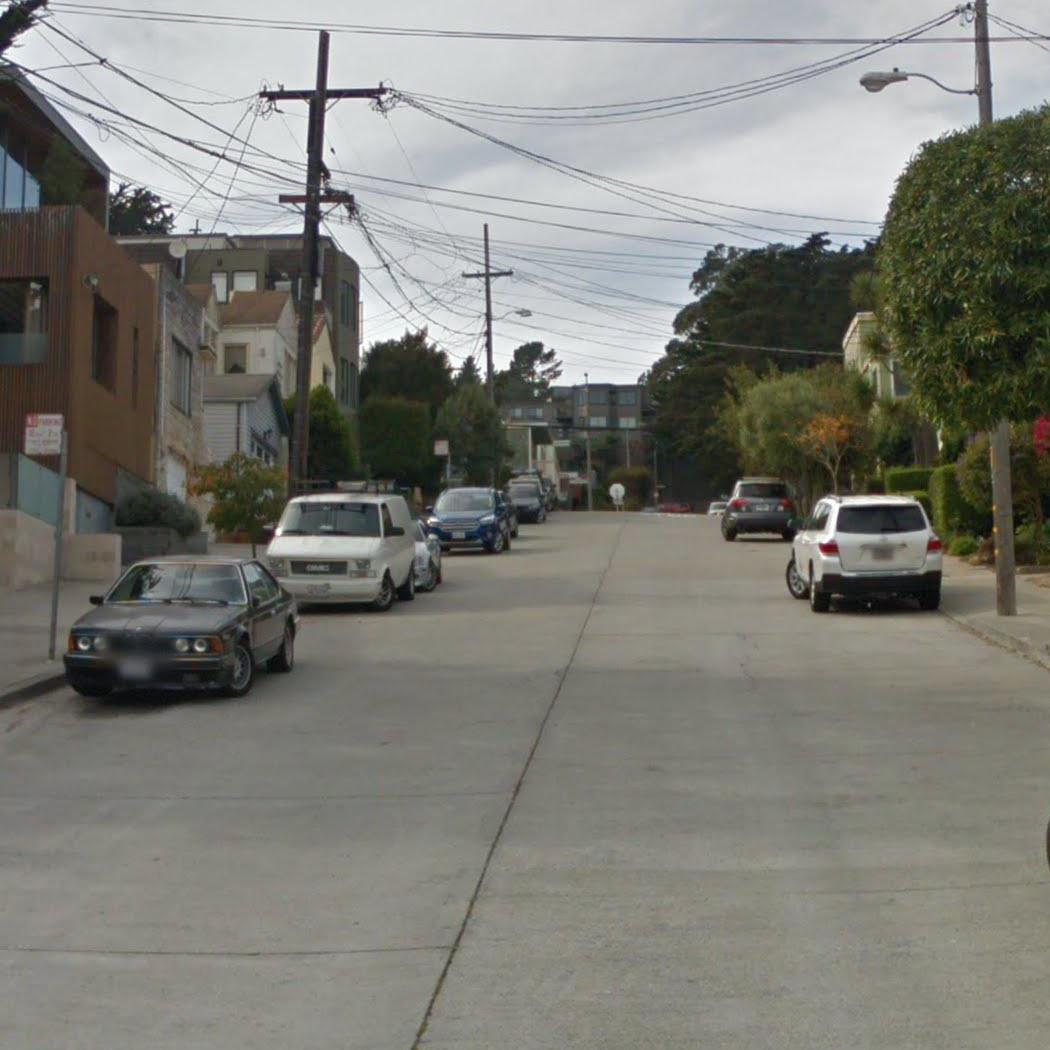No Parking: (21, 411, 67, 458), (432, 439, 450, 457)
